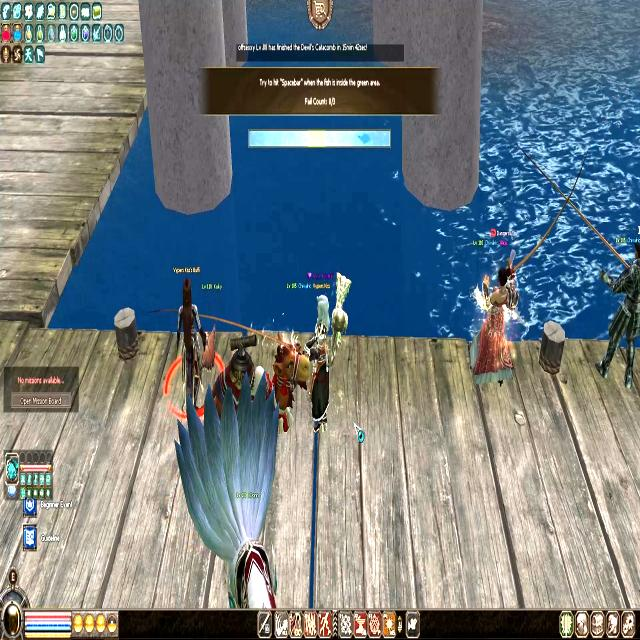fishes: (356, 131, 372, 146)
